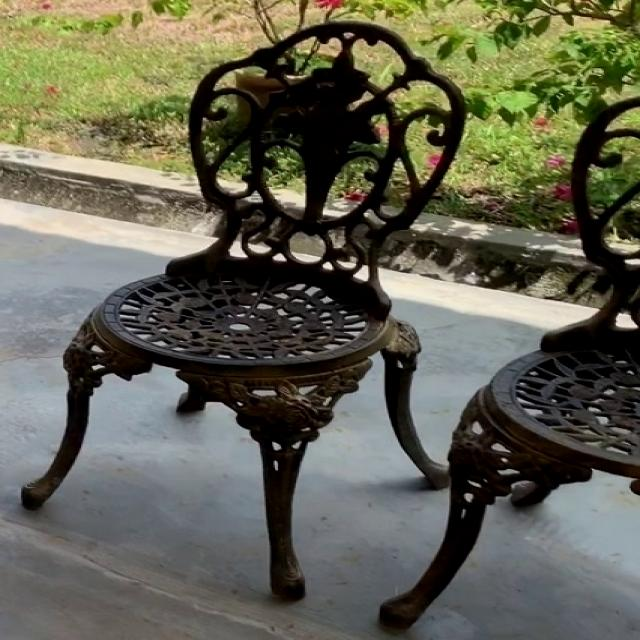Chair: (21, 18, 473, 606), (379, 96, 640, 630)
